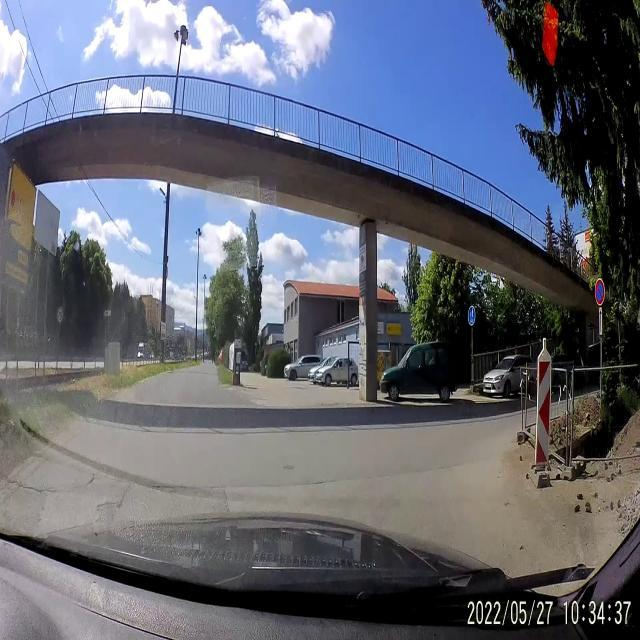Pothole: (148, 479, 204, 498), (308, 478, 338, 487), (280, 462, 297, 474)
